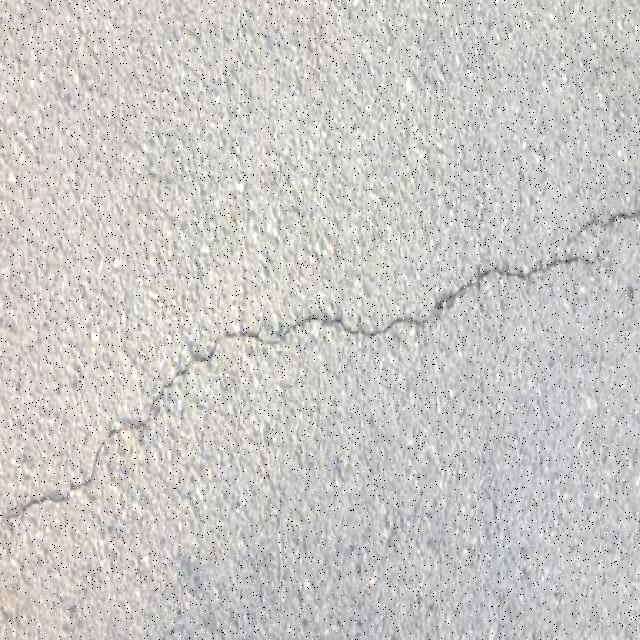minor crack: (369, 314, 420, 334), (336, 315, 364, 337)
moderate crack: (379, 518, 406, 551)
severe crack: (20, 347, 220, 510), (428, 206, 635, 314), (168, 325, 277, 370), (512, 252, 584, 275), (587, 207, 636, 231), (435, 290, 462, 311)
